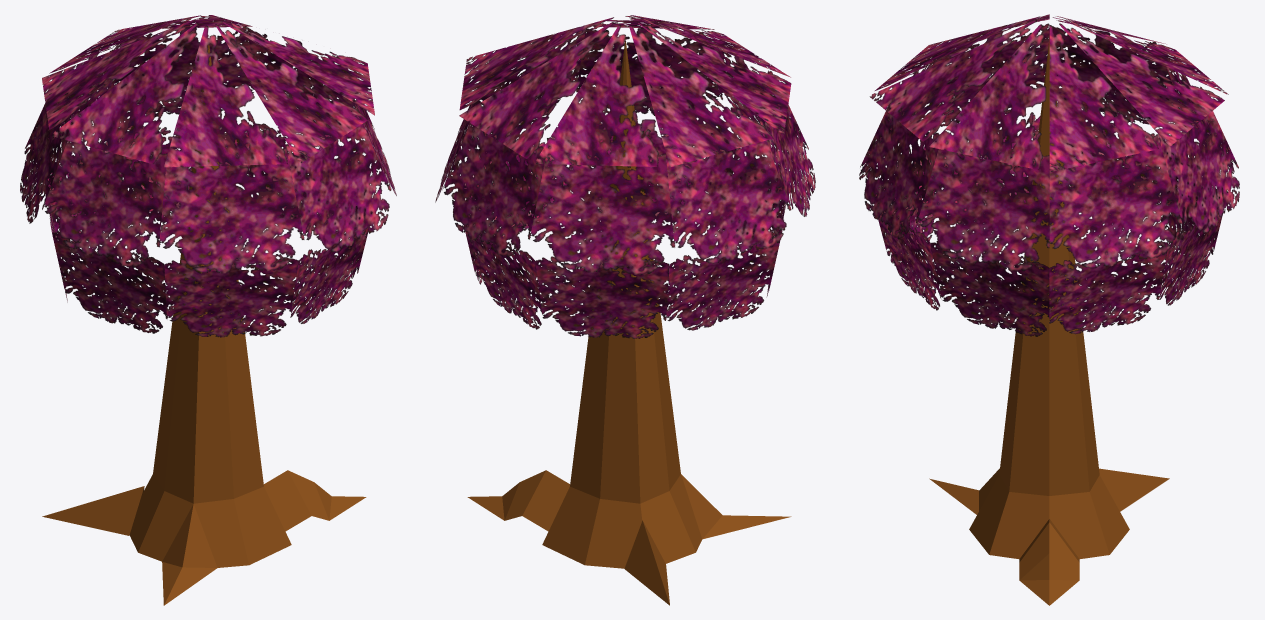
Rendered from stree magic.glb.
The picture shows the model from 3 angles, left to right: view 1: azimuth 30°, elevation 25°; view 2: azimuth 150°, elevation 25°; view 3: azimuth 270°, elevation 25°; orthographic projection.
Visible parts, largest first — view 1: tree; view 2: tree; view 3: tree.
Part boxes in pixels (<box>): tree: <box>20,15,396,605</box>; tree: <box>435,15,815,605</box>; tree: <box>859,14,1239,605</box>.
Bounding box in the file's own units: 1.72 × 2.43 × 1.72.
2 materials, 1 textured.
